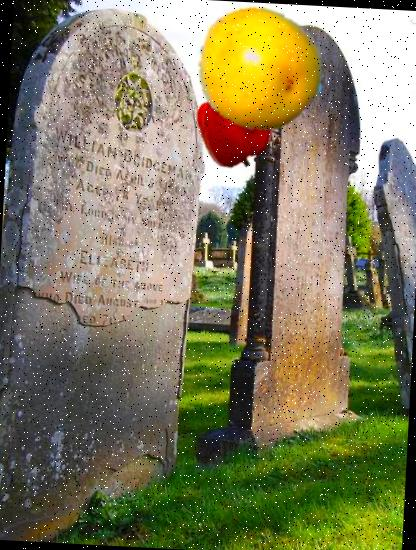Maracuja: (194, 3, 327, 136)
Pepper: (194, 80, 281, 168)
